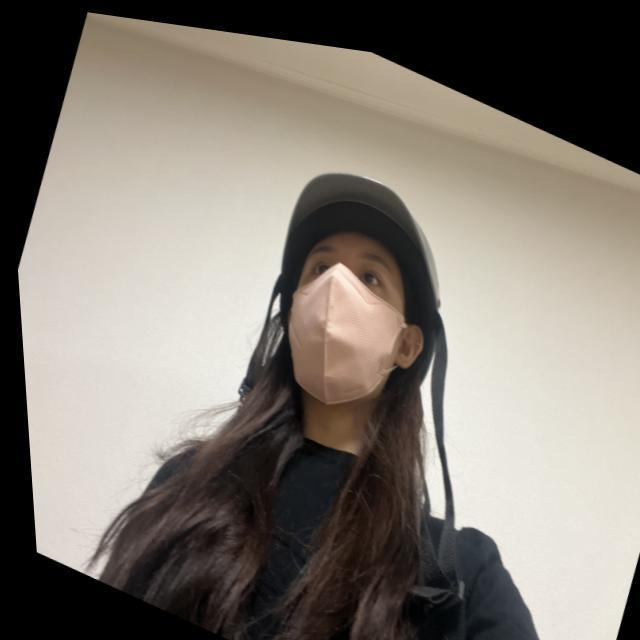Helmet: (243, 153, 481, 437)
